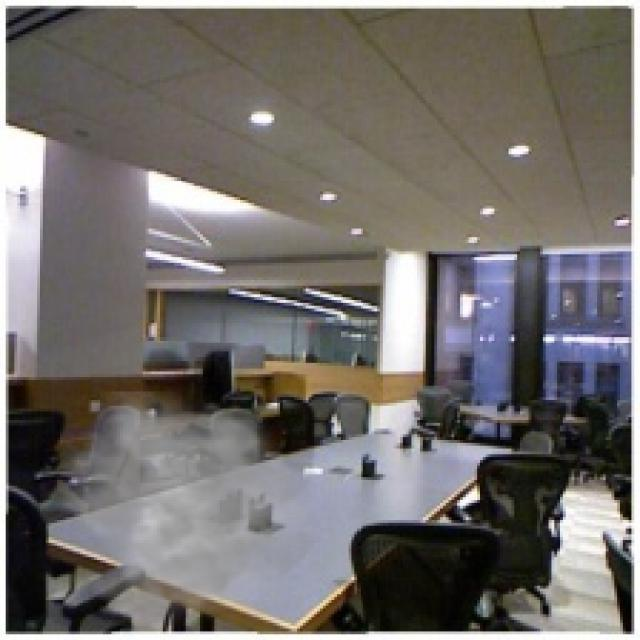Smoke: (54, 392, 320, 634)
